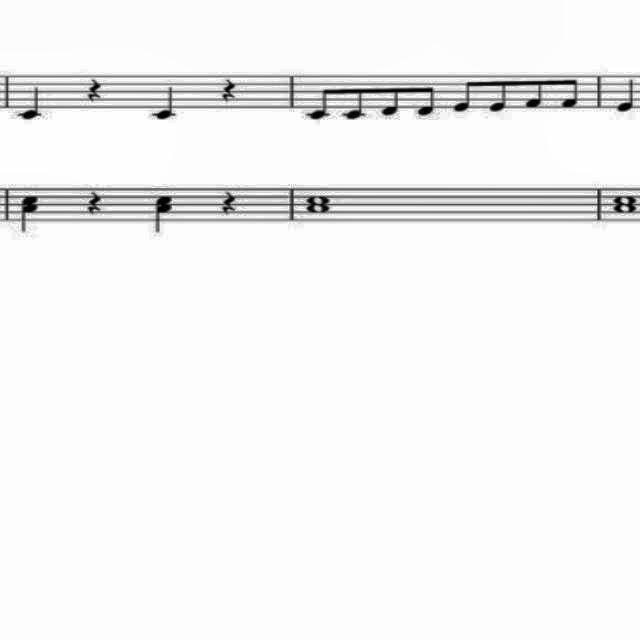Eighth-note: (302, 75, 334, 127), (339, 74, 367, 124), (560, 67, 584, 116), (377, 79, 403, 121), (414, 80, 438, 124), (452, 74, 476, 118), (487, 73, 511, 115), (523, 71, 545, 115)
Quarter-note: (12, 81, 50, 127), (148, 81, 184, 127), (612, 73, 640, 119)
Quarter-rest: (84, 70, 108, 108), (217, 72, 240, 106), (83, 187, 105, 217), (220, 185, 238, 218)
